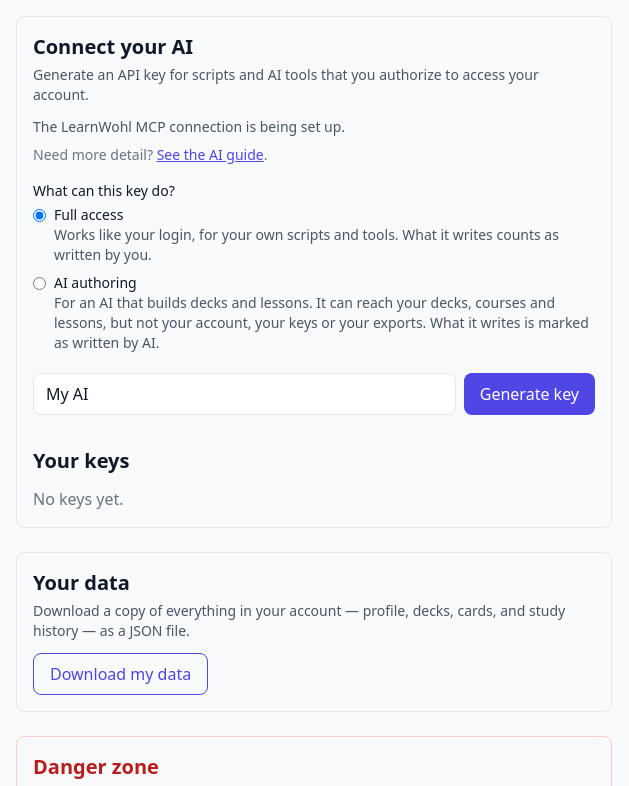
Test: SettingsPage › generating a key shows the raw value once
(page scrolled)
What coordinates should you click on to do the following:
click the button "Generate key"
I would click on:
 (529, 394)
Its box is x1=464 y1=373 x2=595 y2=415.
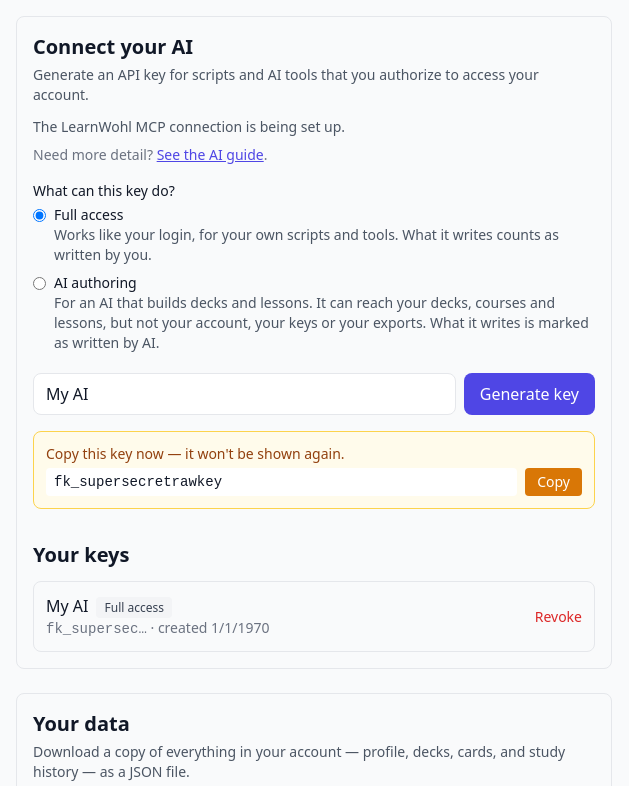
expect the text "fk_supersecretrawkey" is shown: met, box x1=46 y1=468 x2=517 y2=496
expect the text "Copy this key now — it won't be shown again." is shown: met, box x1=46 y1=444 x2=345 y2=463
